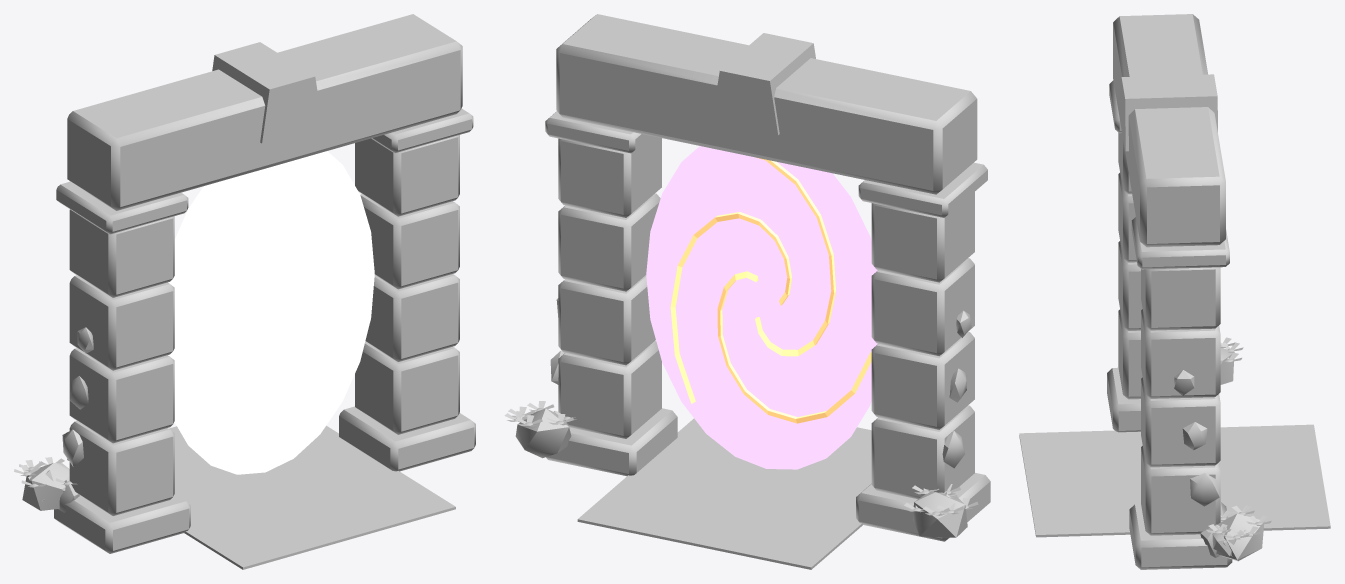
Rendered from zon_diaryring_discord.glb.
3 views of the same model, side by side, from view 1: azimuth 30°, elevation 25°; view 2: azimuth 150°, elevation 25°; view 3: azimuth 270°, elevation 25° (orthographic). The views are drawn at different scales.
Visible parts, largest first — view 1: SM_zon_diaryring_discord_kit_diaryring_discord_x0_z0, ANIM_bld_discord_swirl__0; view 2: SM_zon_diaryring_discord_kit_diaryring_discord_x0_z0, ANIM_bld_discord_swirl__0; view 3: SM_zon_diaryring_discord_kit_diaryring_discord_x0_z0.
Part boxes in pixels (<box>): SM_zon_diaryring_discord_kit_diaryring_discord_x0_z0: <box>14,14,475,569</box>; ANIM_bld_discord_swirl__0: <box>168,151,374,474</box>; SM_zon_diaryring_discord_kit_diaryring_discord_x0_z0: <box>504,14,990,569</box>; ANIM_bld_discord_swirl__0: <box>646,146,877,469</box>; SM_zon_diaryring_discord_kit_diaryring_discord_x0_z0: <box>1019,14,1330,569</box>.
Size of the model in its own units: 4.45 by 4.05 by 2.89.
